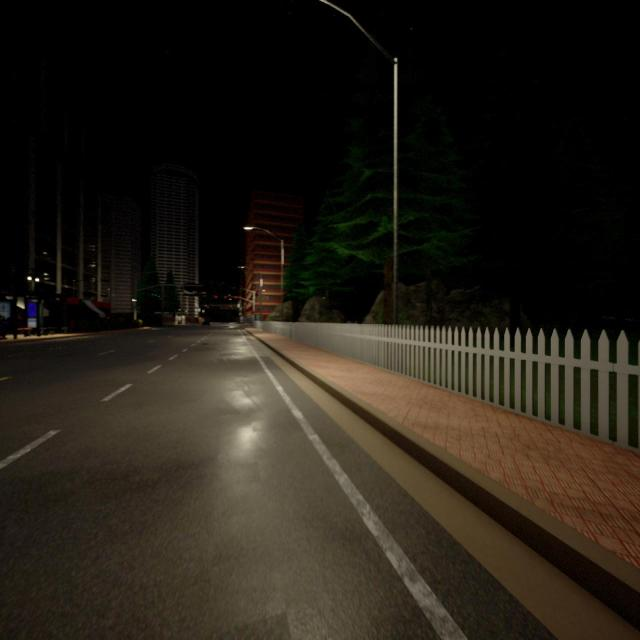traffic_light: (215, 295, 218, 299), (234, 296, 238, 299), (151, 293, 154, 296), (154, 294, 157, 296), (157, 296, 160, 298), (224, 296, 226, 298)
